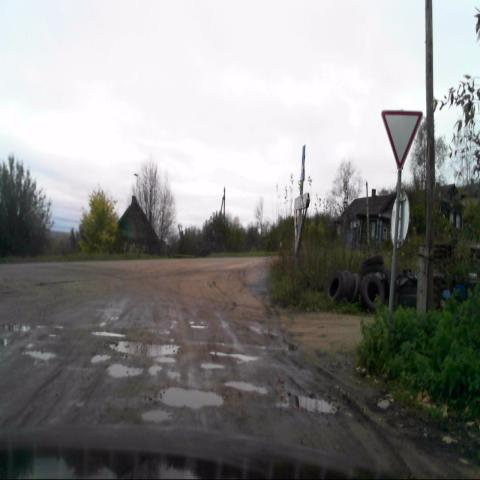2_4: (381, 110, 423, 169)
